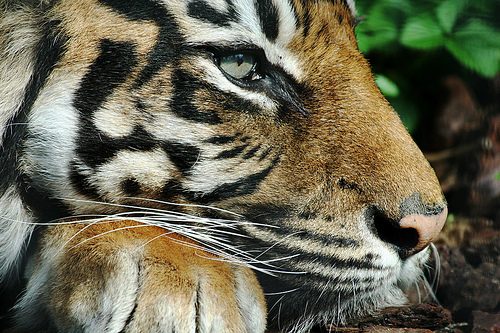Tigre: (57, 12, 433, 291)
